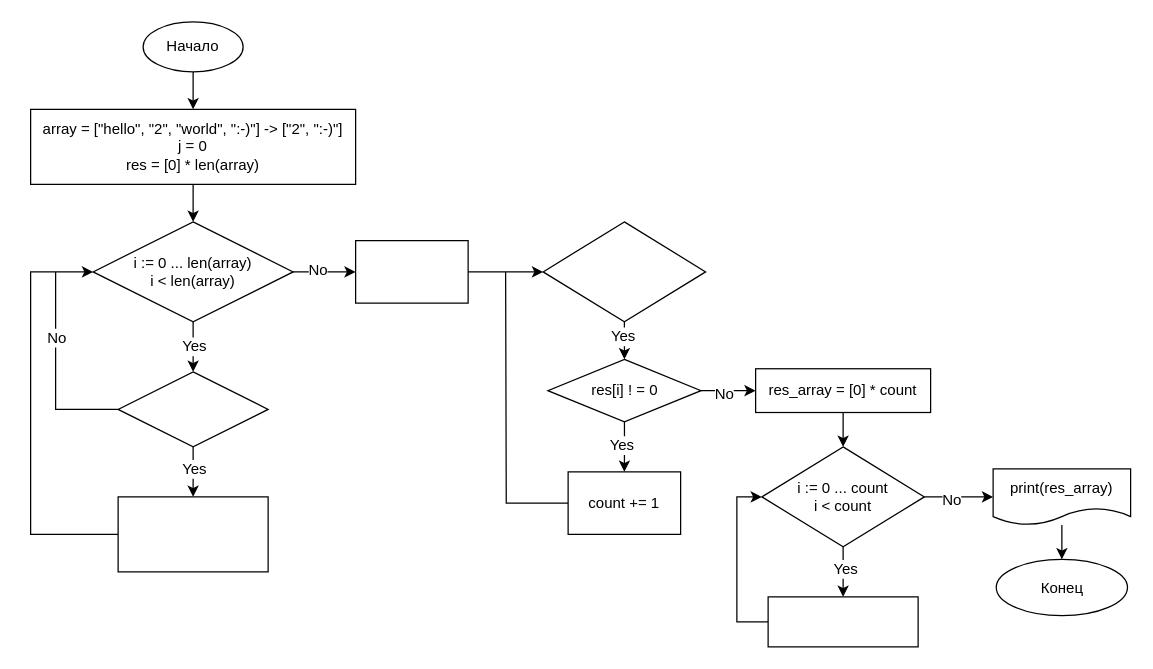
Image size: 1153x669. Some labels were removed from this diagram. Each missing label, with the centre of its shape:
"count = 0" goes at (411,271).
"i := 0 ... len(res) i < len(res)" goes at (624,271).
"len(array[i]) <= 3" goes at (192,409).
"res[j] = arr[i] j += 1" goes at (192,534).
"res_array[i] = res[i]" goes at (842,621).
